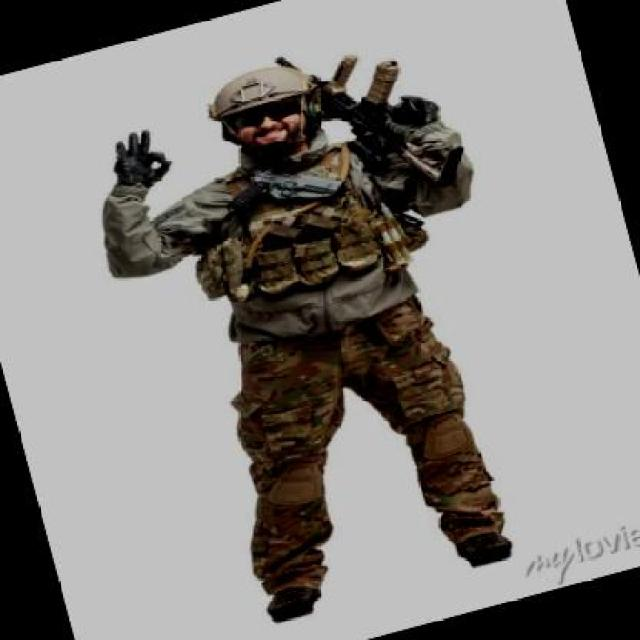MIL_Pax: (60, 19, 572, 638)
